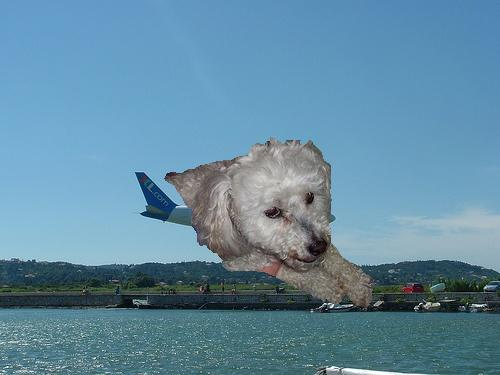tampered: (165, 138, 373, 311)
